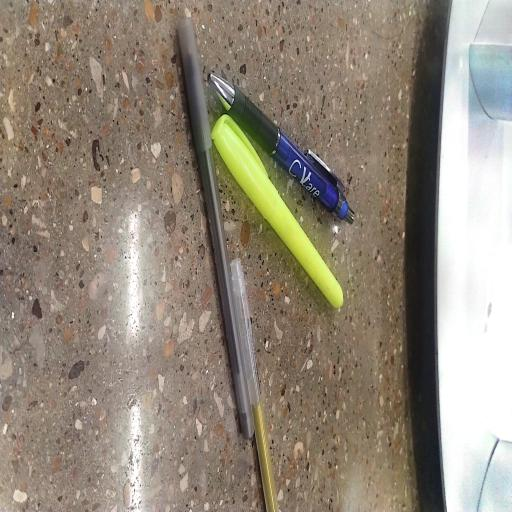pen: (178, 19, 253, 438), (208, 74, 354, 223), (231, 259, 278, 511)
